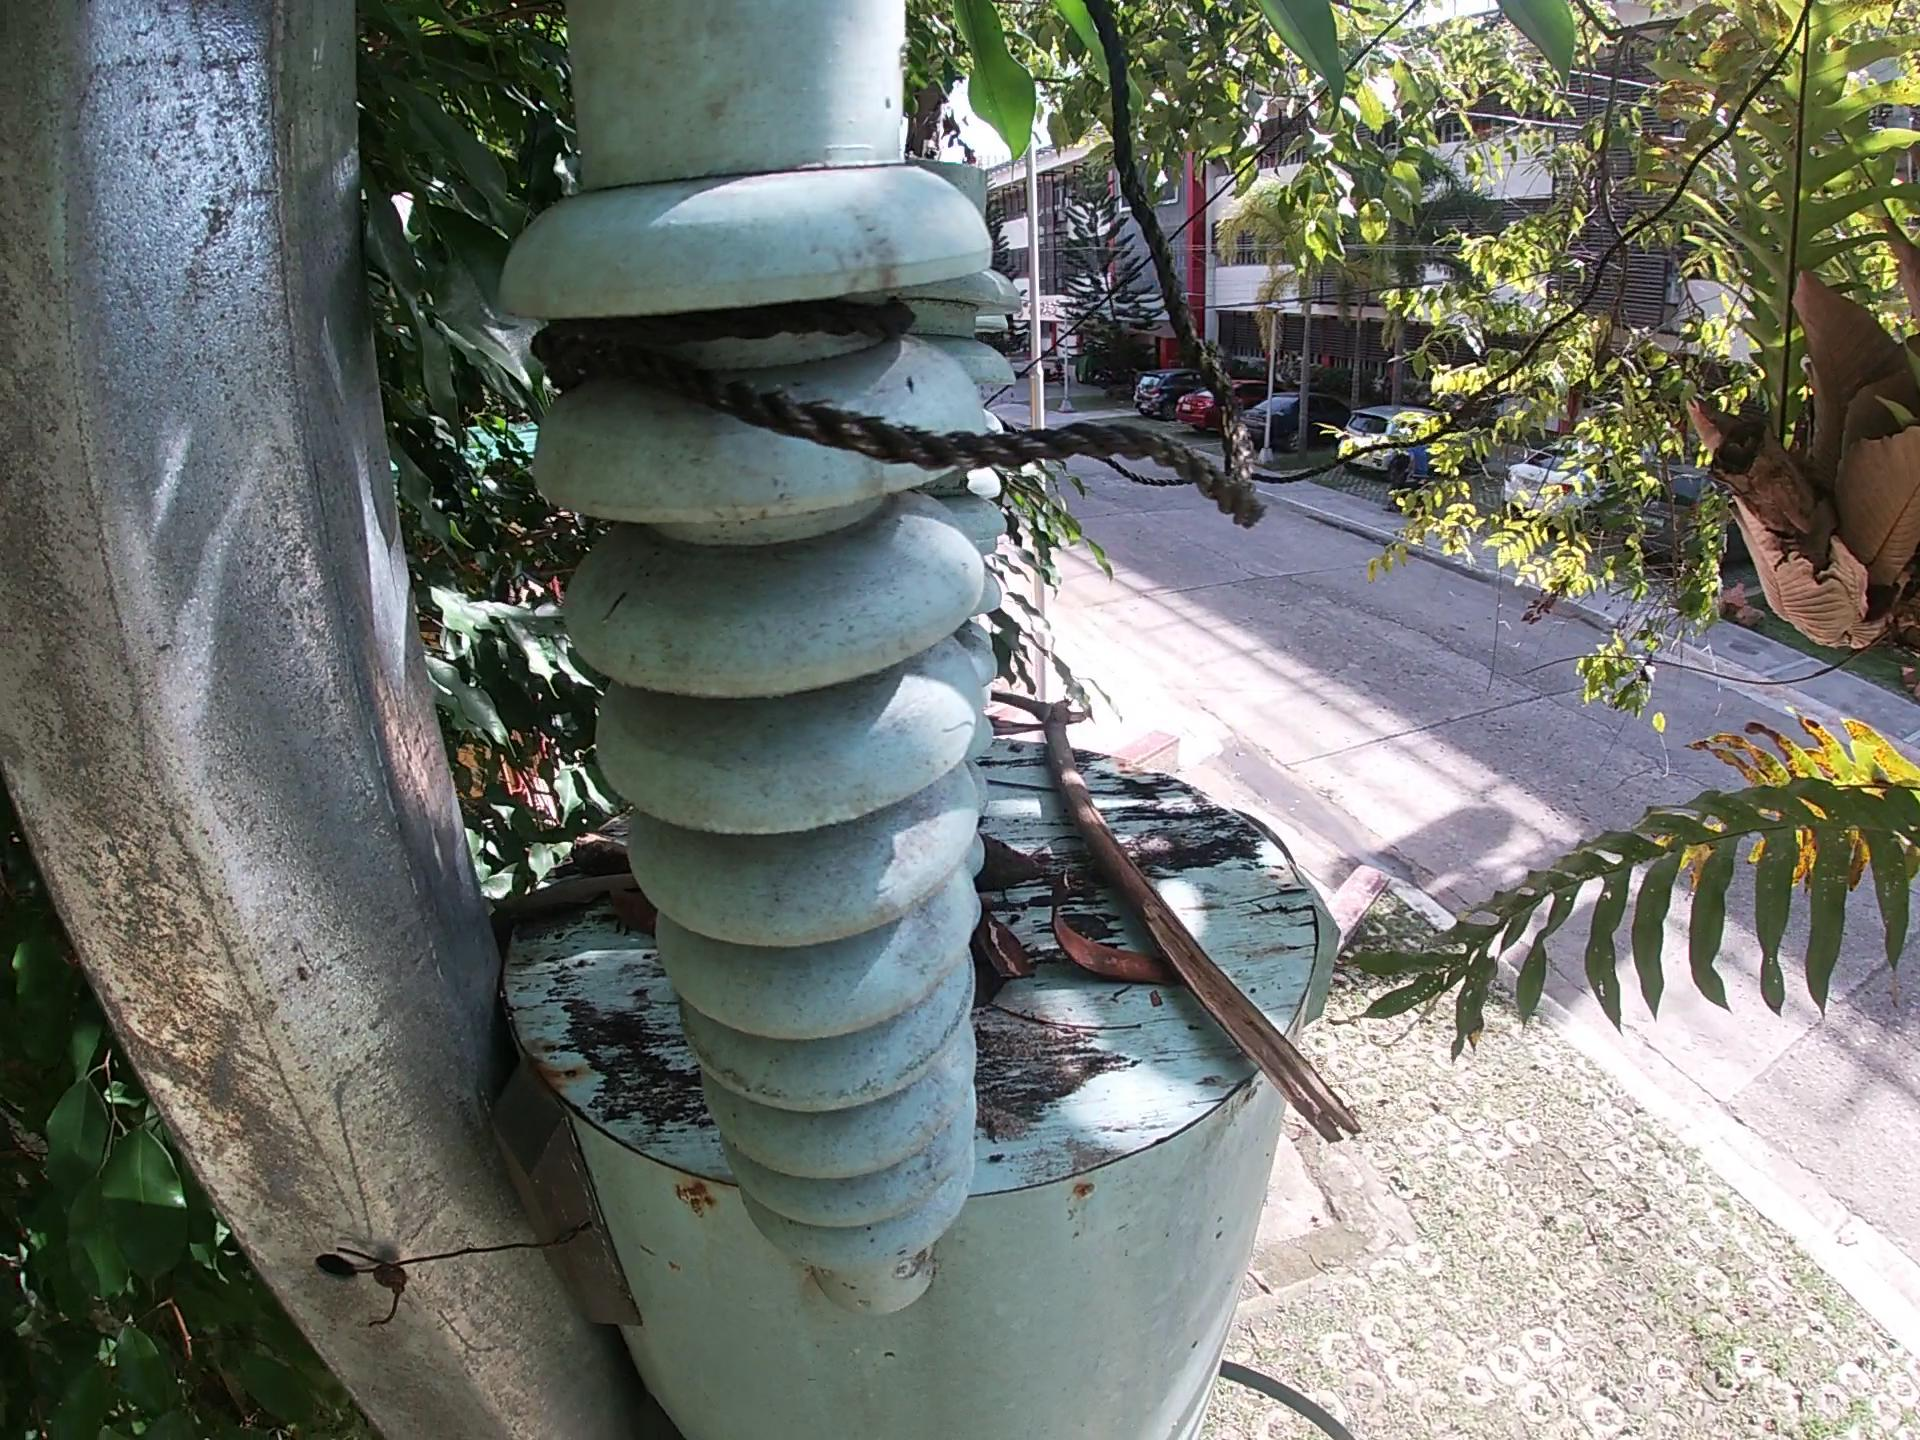leaf: (525, 880, 593, 932), (602, 892, 655, 918)
mahogany fruit: (1040, 855, 1166, 988), (974, 824, 1048, 886)
tree branch: (998, 679, 1349, 1178), (500, 871, 652, 923), (996, 1001, 1135, 1045), (983, 909, 1030, 995), (984, 767, 1060, 803), (1087, 767, 1160, 796), (573, 833, 627, 868)
